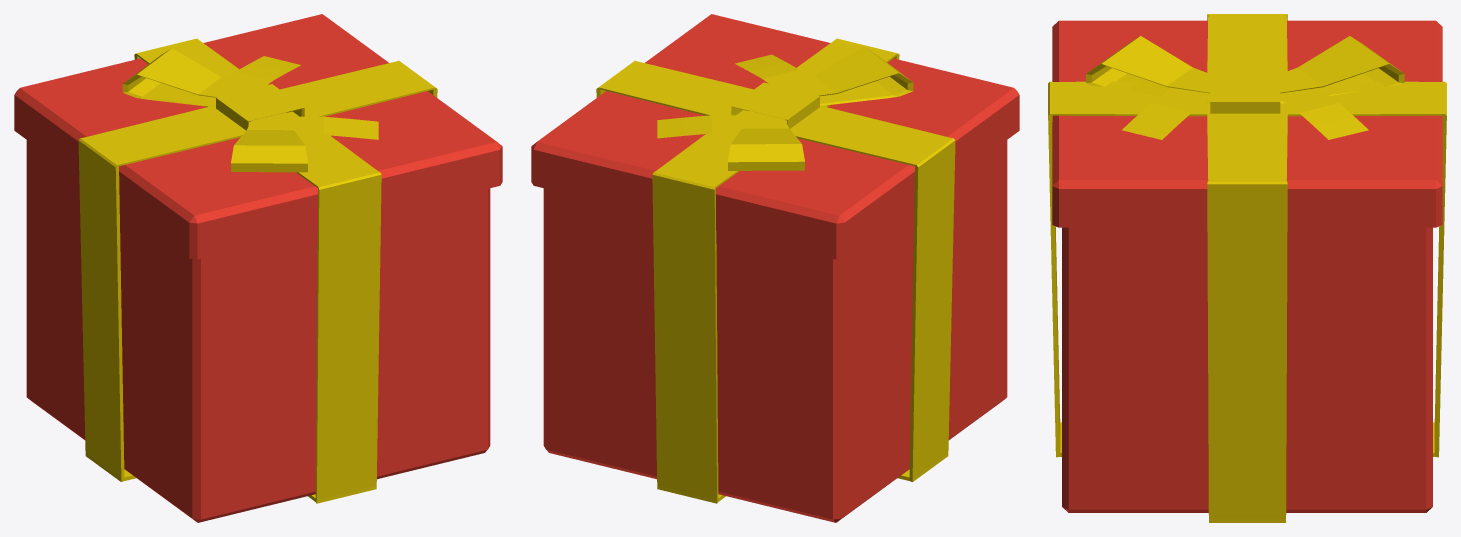
Rendered from red_present.glb.
3 views of the same model, side by side, from view 1: azimuth 30°, elevation 25°; view 2: azimuth 150°, elevation 25°; view 3: azimuth 270°, elevation 25° (orthographic). The views are drawn at different scales.
Visible parts, largest first — view 1: red present; view 2: red present; view 3: red present.
Boxes of the visible parts, x1=… form: red present: x1=14, y1=14, x2=502, y2=522; red present: x1=531, y1=14, x2=1019, y2=522; red present: x1=1048, y1=14, x2=1446, y2=522.
Bounding box in the file's own units: 0.6684 × 0.6751 × 0.665.
